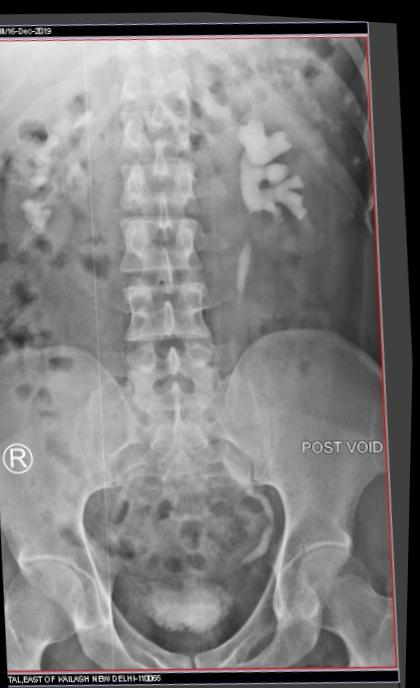vertebrae: (134, 68, 219, 133)
